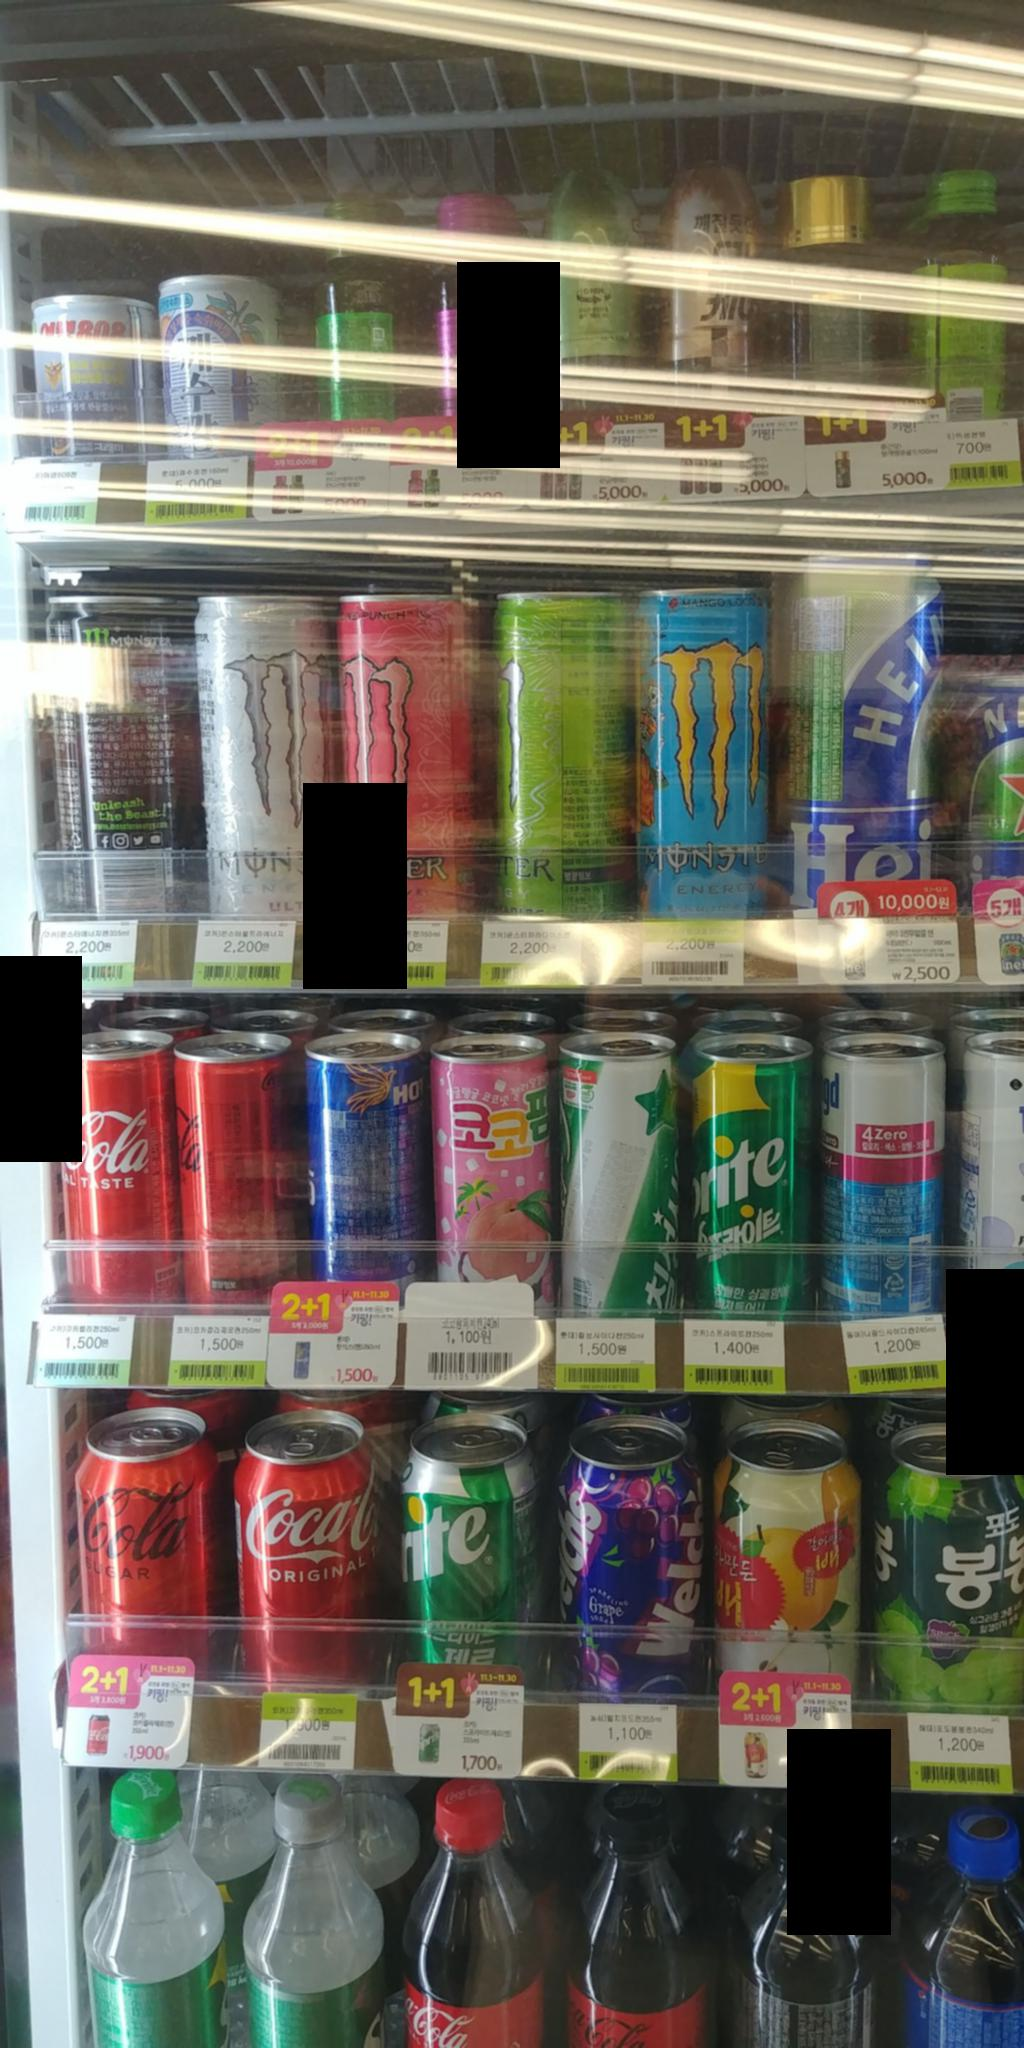cocacola: (213, 1401, 405, 1693)
cocacola_zero: (171, 1019, 307, 1319)
hotsix_org: (291, 1027, 424, 1300)
narangdcider: (818, 1032, 963, 1317)
welchs_grape: (542, 1408, 720, 1698)
